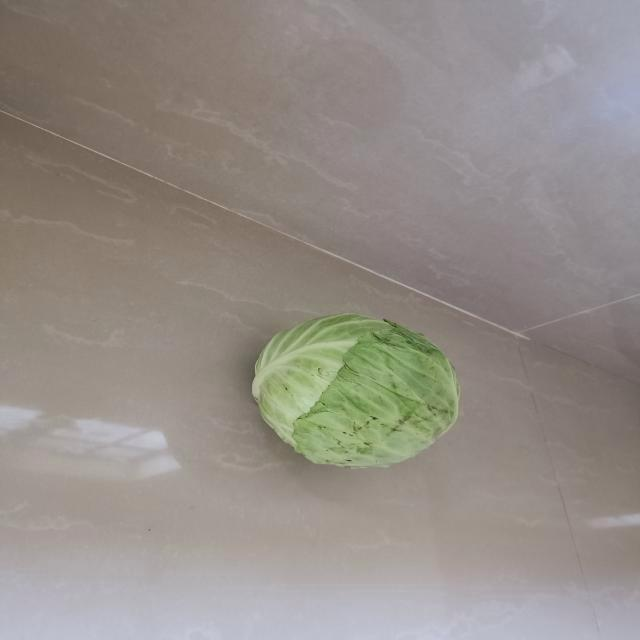cabbage: (248, 310, 463, 472)
